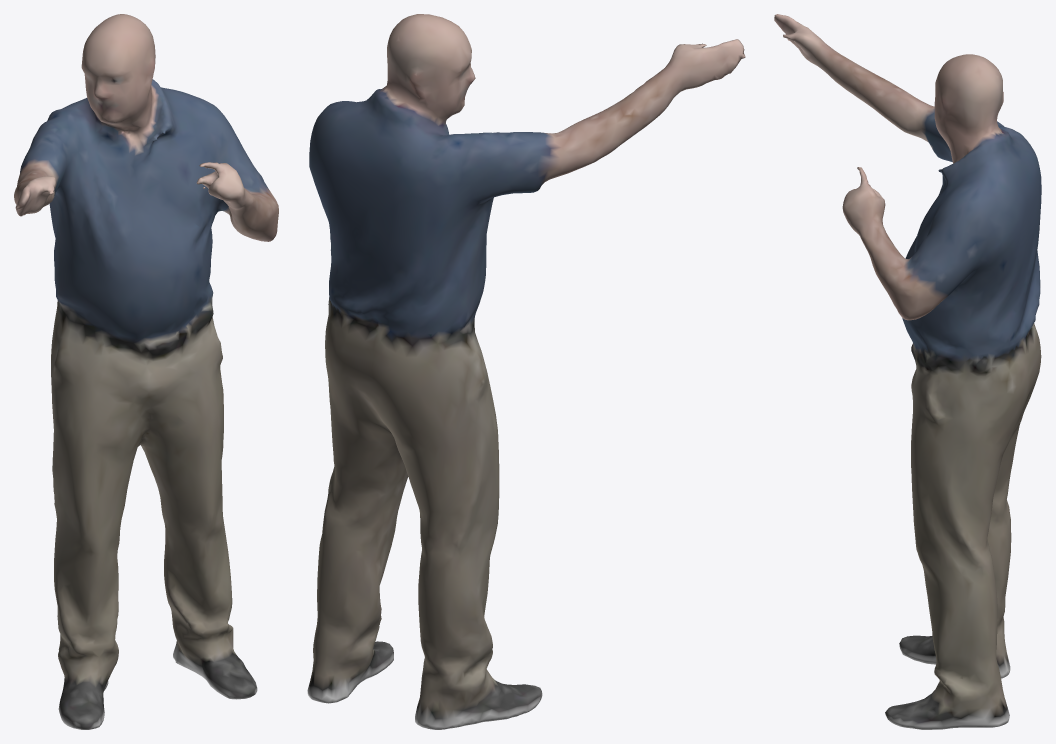
Rendered from coach-v1.glb.
The picture shows the model from 3 angles, left to right: view 1: azimuth 30°, elevation 25°; view 2: azimuth 150°, elevation 25°; view 3: azimuth 270°, elevation 25°; orthographic projection. The views are drawn at different scales.
Visible parts, largest first — view 1: coach; view 2: coach; view 3: coach.
Boxes of the visible parts, box(x1,y1,x2,y2) form: coach: box(14, 14, 278, 729); coach: box(307, 14, 745, 729); coach: box(774, 14, 1041, 729).
Bounding box in the file's own units: 0.941 × 1.82 × 0.7014.
